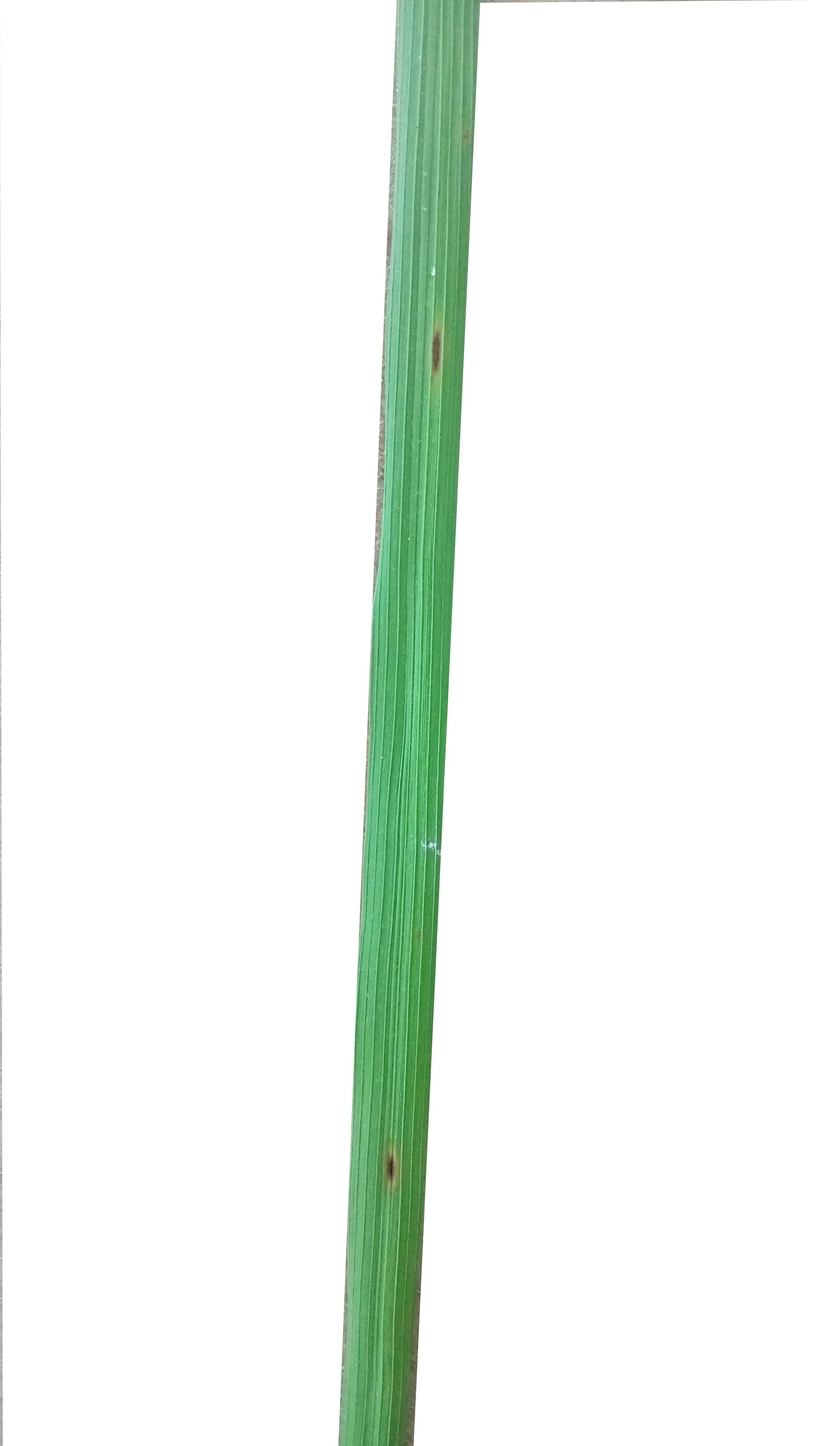Brown spot: (425, 308, 449, 406), (377, 1143, 404, 1198)
